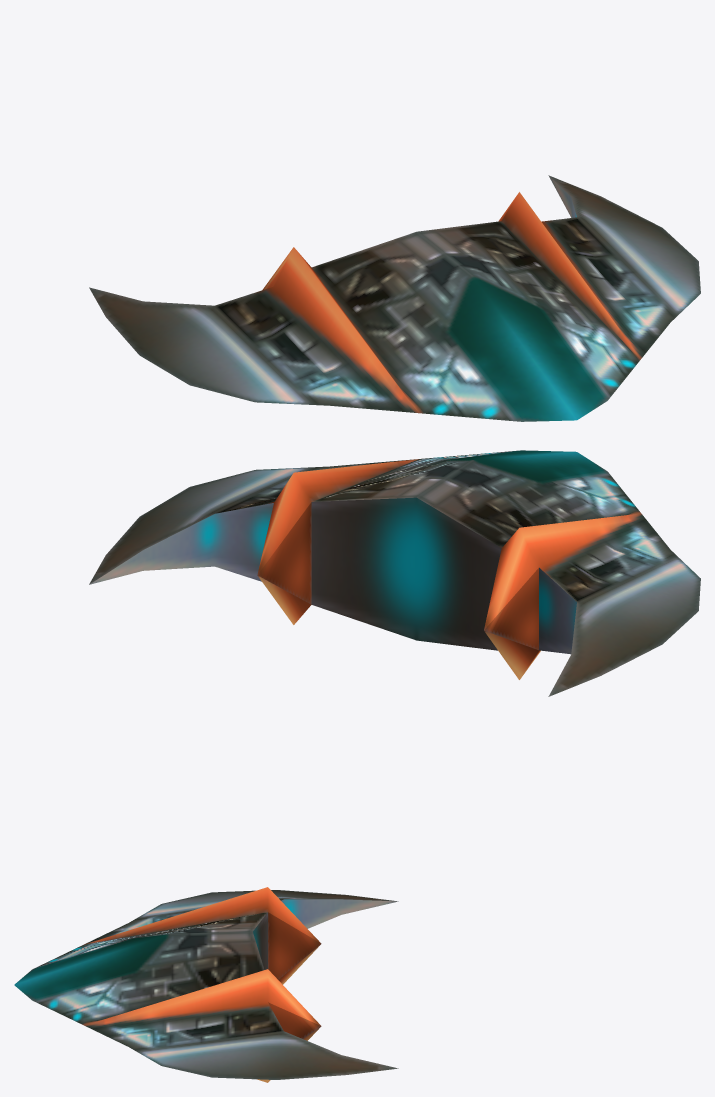
File: enemy01.FBX
3 renders of one model, top to bottom at view 1: azimuth 30°, elevation 25°; view 2: azimuth 150°, elevation 25°; view 3: azimuth 270°, elevation 25°, orthographic. The views are drawn at different scales.
Parts seen in each view (by area): view 1: enemy01; view 2: enemy01; view 3: enemy01.
Boxes of the visible parts, x1=… form: enemy01: x1=89, y1=175, x2=700, y2=421; enemy01: x1=89, y1=450, x2=700, y2=696; enemy01: x1=14, y1=887, x2=398, y2=1082.
Bounding box in the file's own units: 1183 × 330 × 1805.
